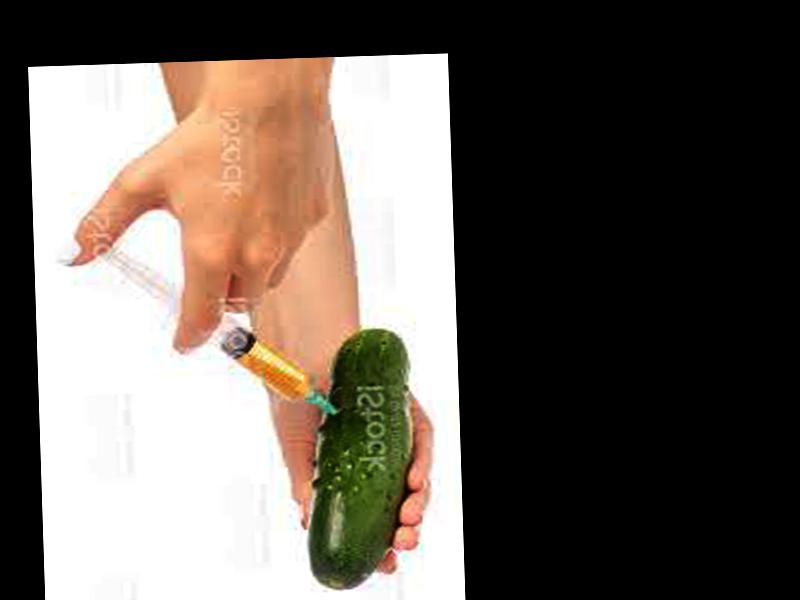Cucumber: (302, 328, 410, 592)
